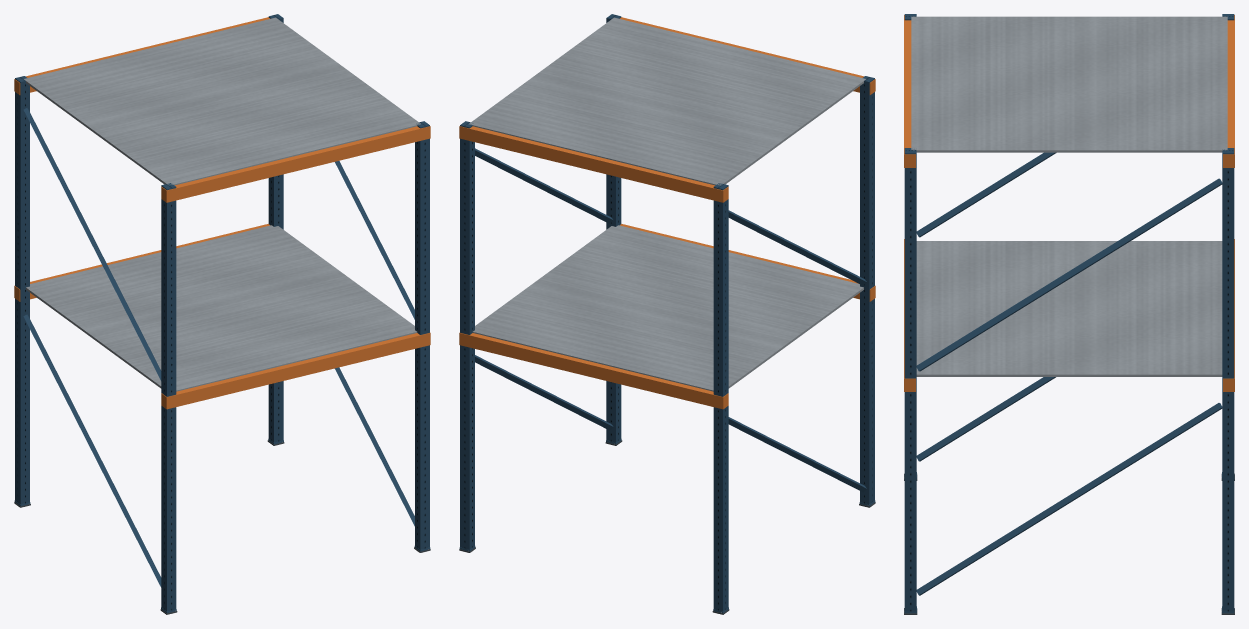
File: storage-rack.glb
3 views of the same model, side by side, from view 1: azimuth 30°, elevation 25°; view 2: azimuth 150°, elevation 25°; view 3: azimuth 270°, elevation 25° (orthographic). The views are drawn at different scales.
Visible parts, largest first — view 1: storage-deck-2, storage-deck-1, rack-upright--1200--1200, rack-upright--1200-1200, rack-upright-1200--1200, rack-diagonal-brace (×4), rack-beam-2--1205, rack-beam-1--1205, rack-upright-1200-1200, rack-beam-2-1205, rack-beam-1-1205; view 2: storage-deck-2, storage-deck-1, rack-upright--1200-1200, rack-upright--1200--1200, rack-upright-1200-1200, rack-diagonal-brace (×4), rack-beam-2-1205, rack-beam-1-1205, rack-upright-1200--1200, rack-beam-2--1205, rack-beam-1--1205; view 3: storage-deck-2, storage-deck-1, rack-diagonal-brace (×4), rack-upright-1200--1200, rack-upright-1200-1200, rack-beam-2--1205, rack-beam-2-1205.
Part boxes in pixels (x1,y1,x2,y2): storage-deck-2: (24,17,420,185); storage-deck-1: (26,225,417,391); rack-upright--1200--1200: (161,183,176,611); rack-upright--1200-1200: (15,76,29,504); rack-upright-1200--1200: (415,121,429,549); rack-diagonal-brace (×4): (23,108,414,587); rack-beam-2--1205: (161,126,430,202); rack-beam-1--1205: (161,332,430,409); rack-upright-1200-1200: (268,14,283,442); rack-beam-2-1205: (14,17,269,94); rack-beam-1-1205: (14,224,269,301); storage-deck-2: (469,17,865,185); storage-deck-1: (472,225,863,391); rack-upright--1200-1200: (713,183,728,611); rack-upright--1200--1200: (860,76,874,504); rack-upright-1200-1200: (460,121,474,549); rack-diagonal-brace (×4): (475,148,866,492); rack-beam-2-1205: (459,126,728,202); rack-beam-1-1205: (459,332,728,409); rack-upright-1200--1200: (606,14,621,442); rack-beam-2--1205: (620,17,875,94); rack-beam-1--1205: (620,224,875,301); storage-deck-2: (911,16,1227,152); storage-deck-1: (916,241,1222,376); rack-diagonal-brace (×4): (916,152,1222,595); rack-upright-1200--1200: (904,148,916,611); rack-upright-1200-1200: (1222,148,1234,611); rack-beam-2--1205: (904,15,915,167); rack-beam-2-1205: (1223,15,1234,167).
Bounding box in the file's own units: 2.5 × 3.85 × 2.5.
6 materials, 2 textured.
